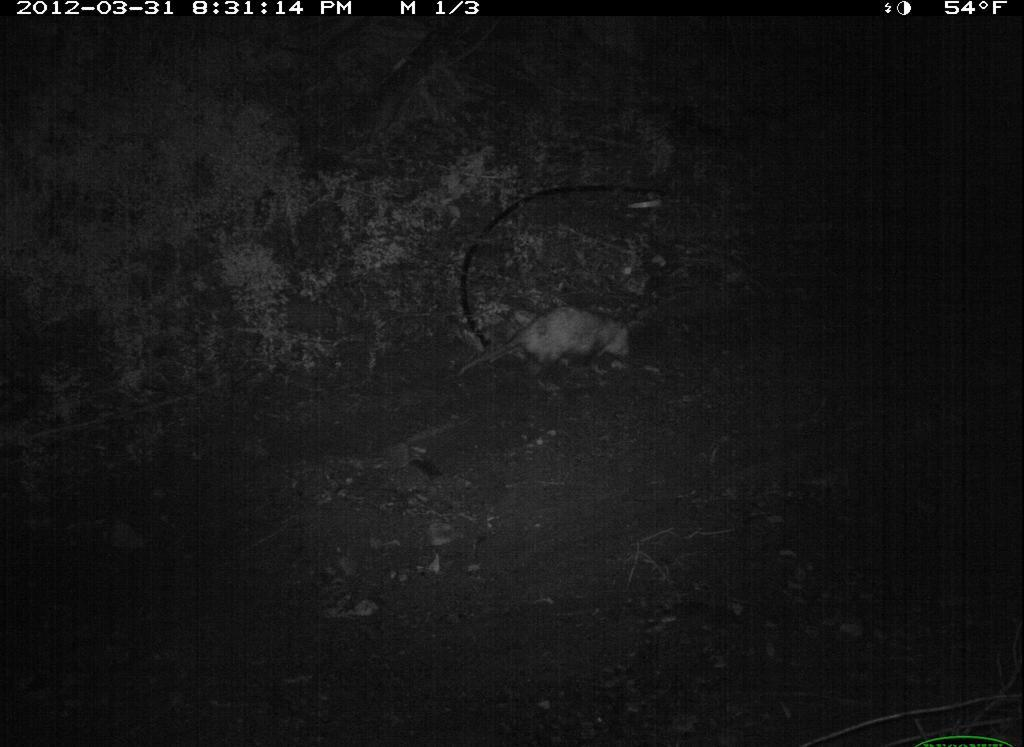opossum: (459, 300, 635, 388)
